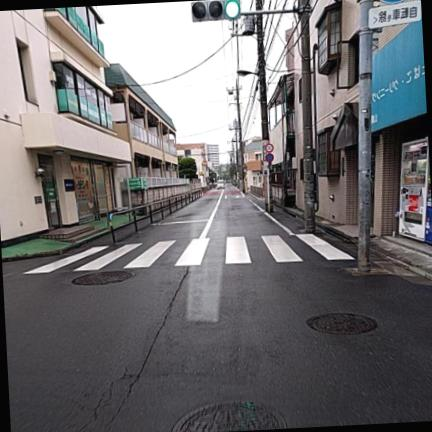Road: (2, 186, 431, 431)
